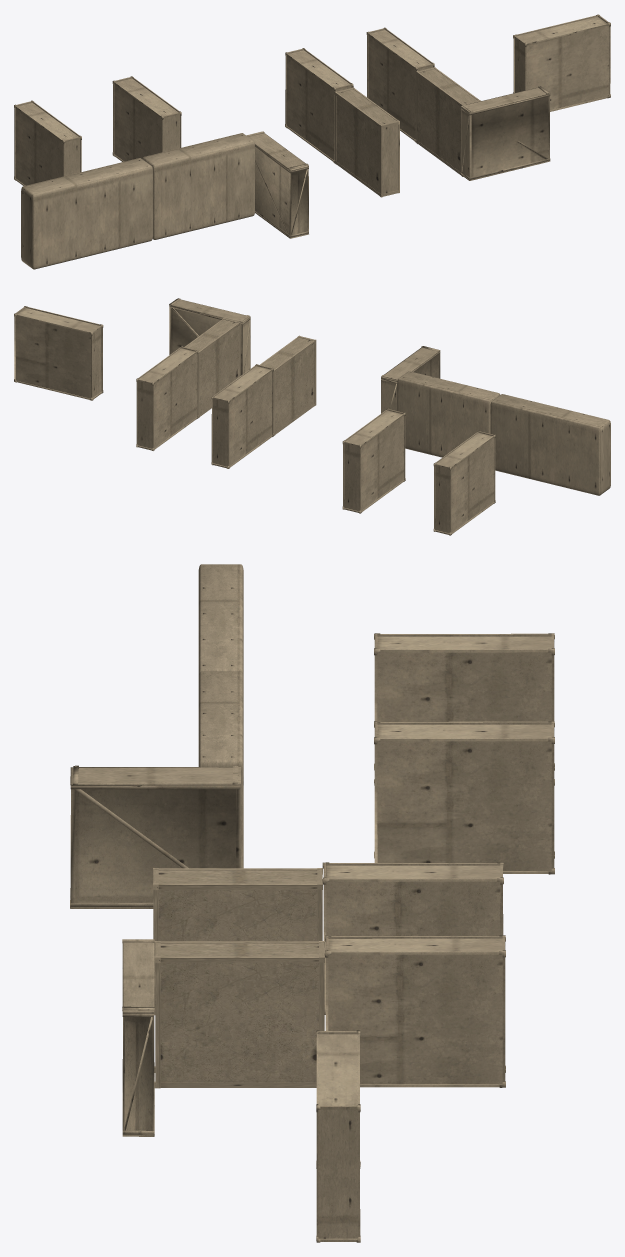
The model's file is Bottom_Wall.fbx.
3 renders of one model, top to bottom at view 1: azimuth 30°, elevation 25°; view 2: azimuth 150°, elevation 25°; view 3: azimuth 270°, elevation 25°, orthographic. The views are drawn at different scales.
Parts seen in each view (by area): view 1: Bottom_Wall; view 2: Bottom_Wall; view 3: Bottom_Wall.
Part boxes in pixels (x1,y1,x2,y2): Bottom_Wall: (14, 14, 610, 269); Bottom_Wall: (14, 298, 610, 535); Bottom_Wall: (70, 564, 554, 1242).
Bounding box in the file's own units: 2526 × 298 × 953.
Materials: 1 (1 with a texture image).
